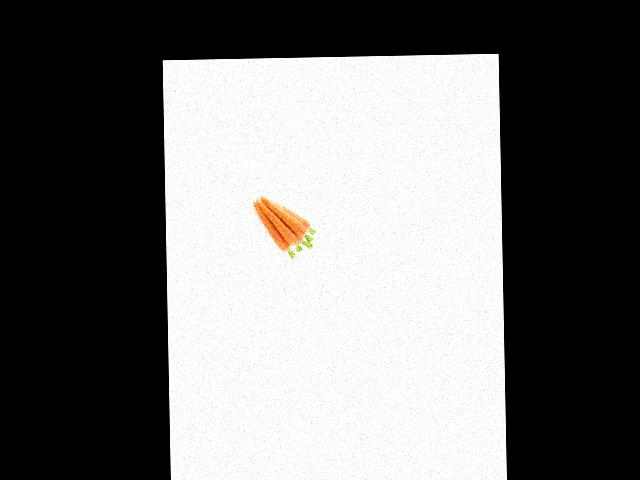carrot: (248, 202, 289, 255)
